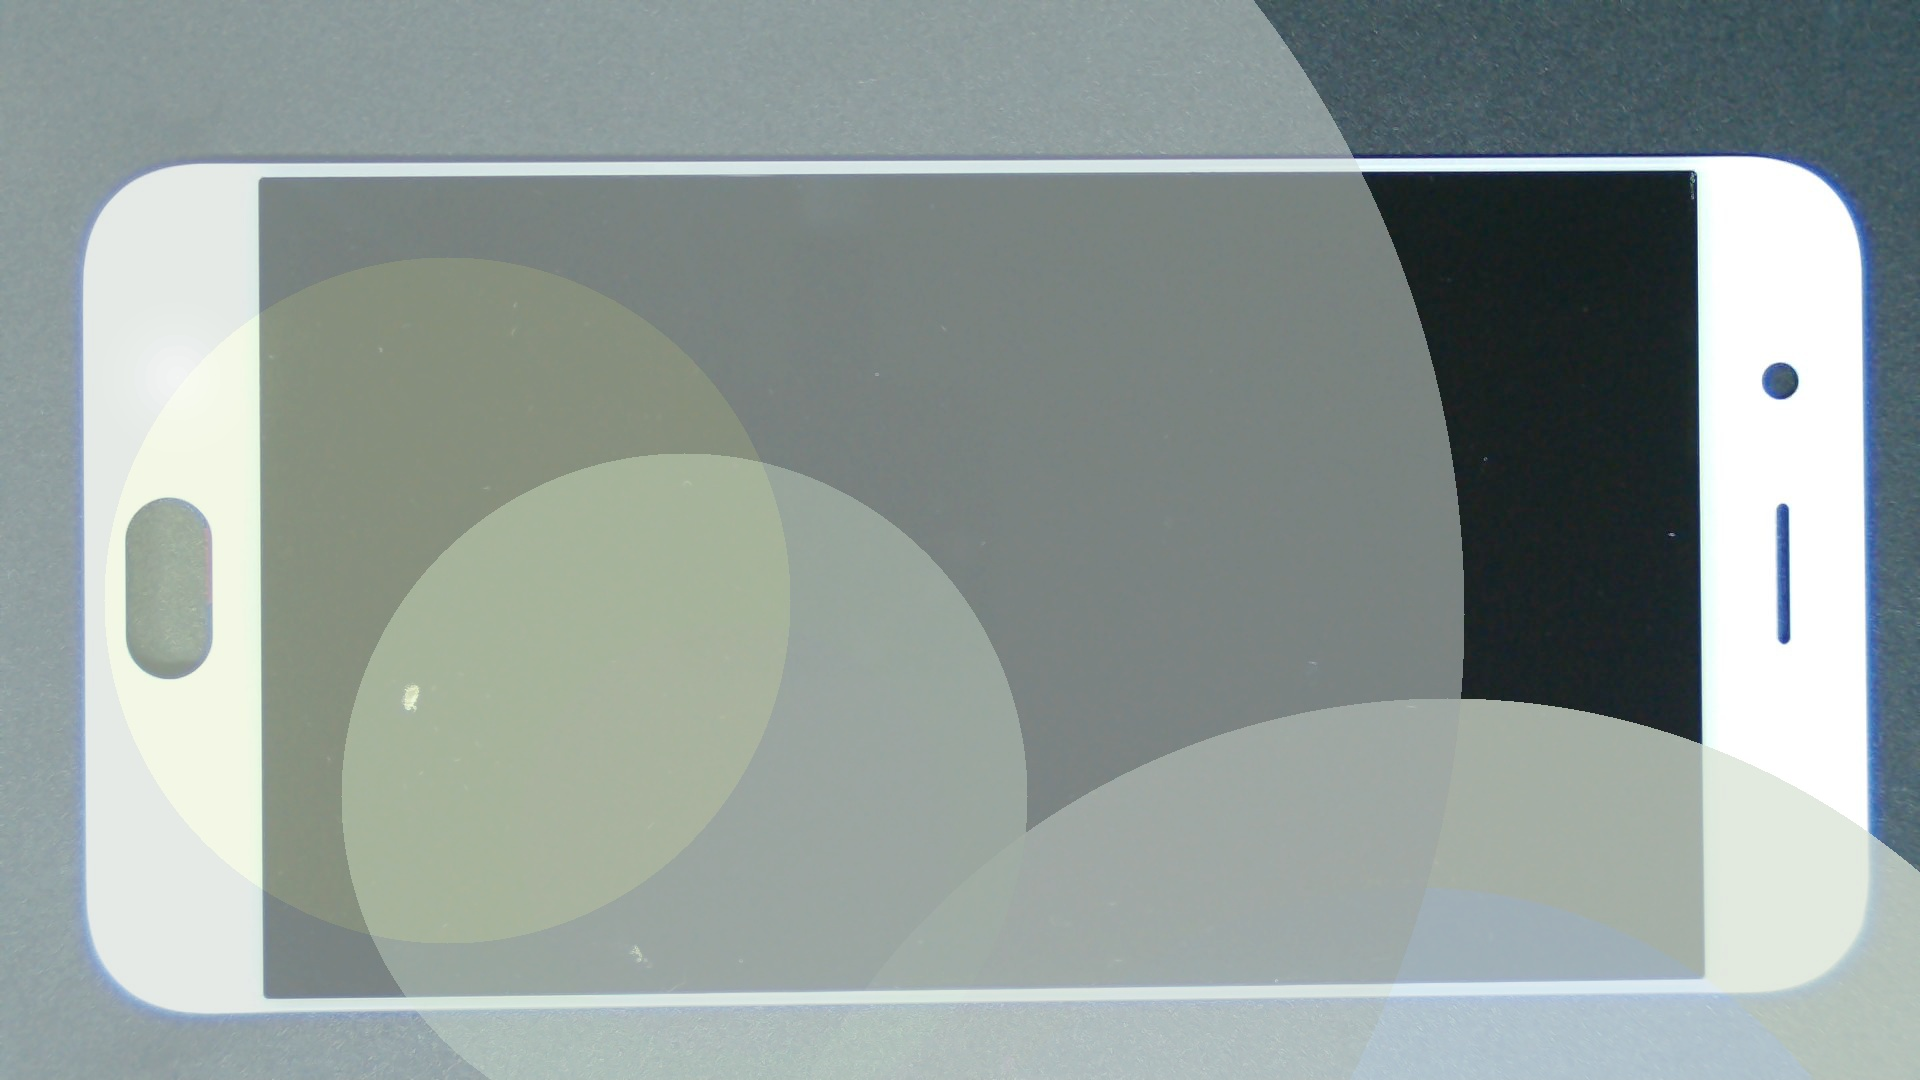oil: (318, 470, 947, 1080), (206, 340, 616, 1023)
